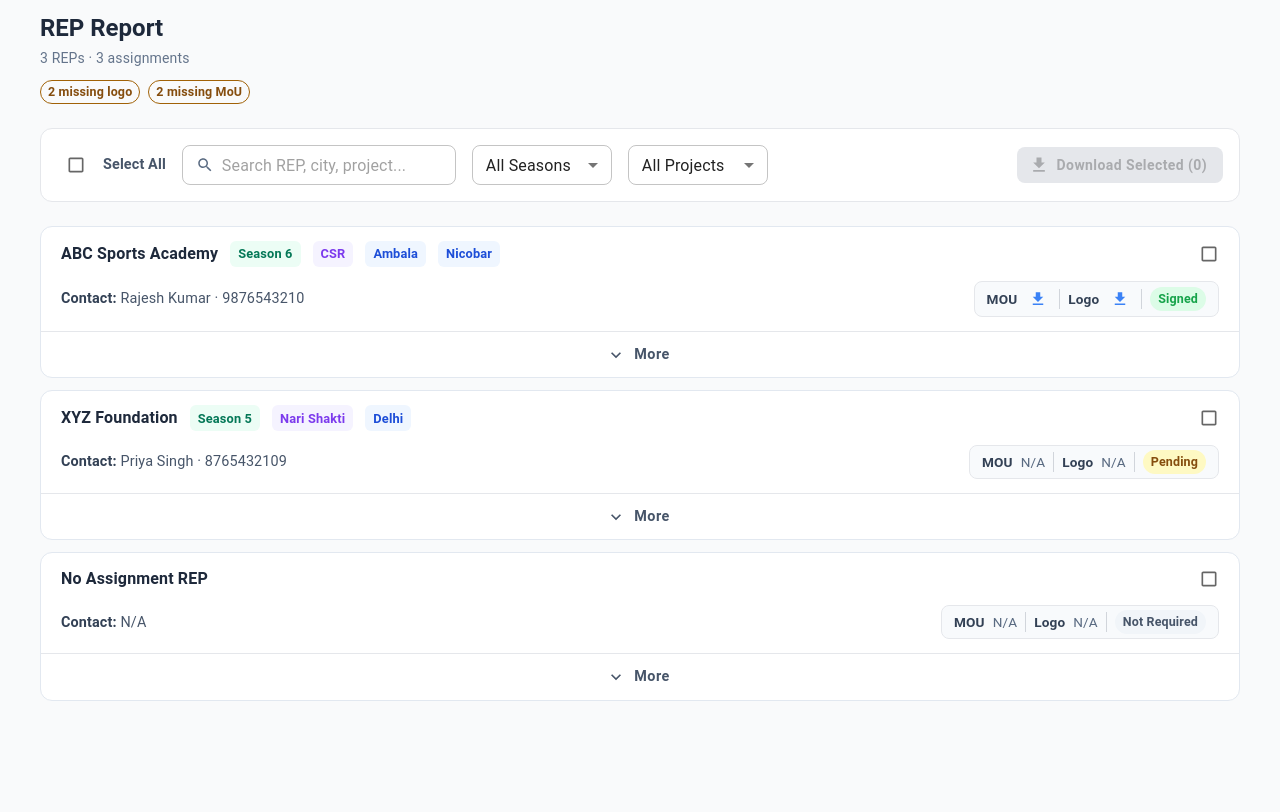
SocialMediaReport › project filter narrows cards
This screenshot has width=1280, height=812.
Expected: the text "ABC Sports Academy" is shown, [61,242,218,266]
// Second combobox is project filter
Step 1. Click the dropdown labelled "All Projects" → (683, 165), box [642,156,725,174]
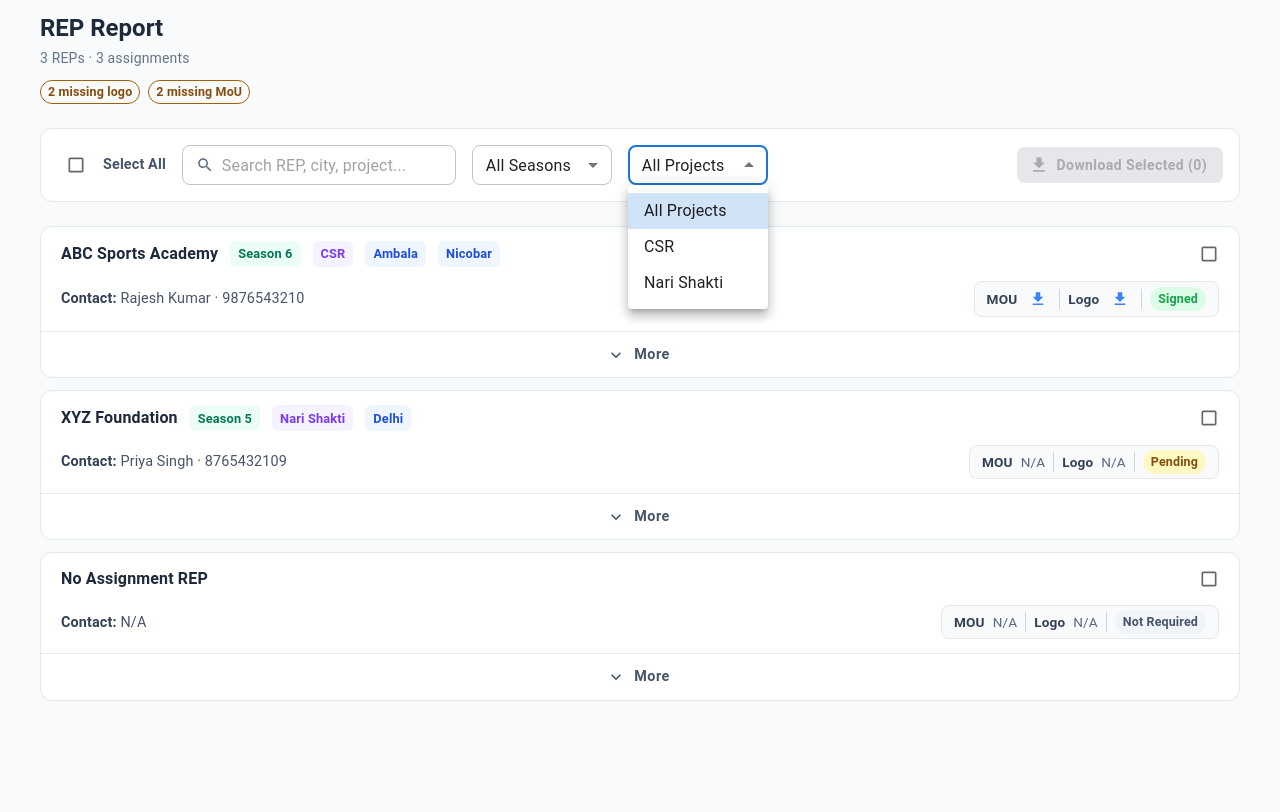
Step 2. Click the option "Nari Shakti" → (684, 282), box [644,273,723,292]
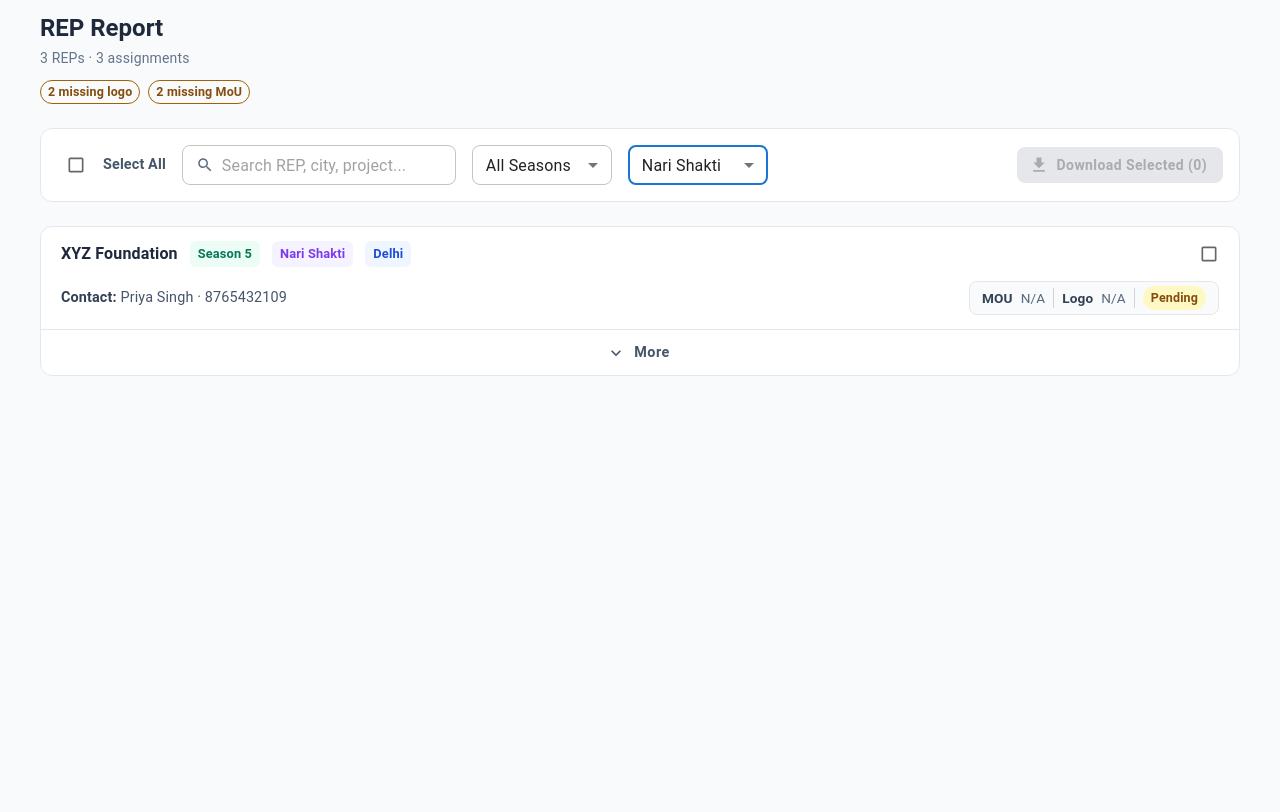
Expected: the text "XYZ Foundation" is shown, [61,242,178,266]
Now the text "ABC Sports Academy" is gone
